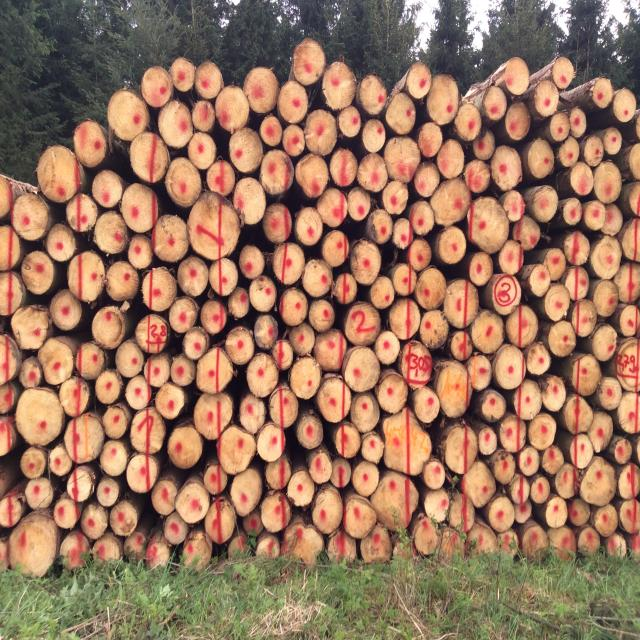wood-log: (188, 193, 242, 260), (383, 406, 432, 474), (7, 512, 58, 577), (370, 469, 418, 532), (38, 147, 88, 206), (15, 388, 65, 446), (467, 196, 510, 251), (108, 88, 150, 140), (64, 412, 107, 462), (434, 358, 470, 416), (129, 131, 169, 182), (431, 178, 473, 226), (67, 252, 106, 303), (194, 393, 235, 441), (217, 426, 256, 475), (122, 184, 160, 234), (152, 215, 190, 265), (580, 456, 617, 507), (12, 193, 52, 240), (321, 62, 359, 110), (158, 101, 196, 149), (442, 423, 477, 475), (196, 347, 236, 392), (12, 304, 52, 349), (342, 346, 381, 392), (441, 279, 478, 327), (130, 406, 167, 454), (41, 337, 78, 385), (427, 76, 462, 126), (166, 158, 202, 206), (216, 85, 252, 133), (400, 339, 436, 387), (318, 377, 354, 425), (75, 120, 110, 169), (243, 67, 280, 113), (460, 461, 496, 508), (233, 176, 268, 224), (296, 154, 333, 199), (304, 109, 340, 155), (386, 136, 422, 182), (203, 495, 236, 545), (260, 149, 294, 197), (344, 302, 381, 346), (292, 40, 327, 86), (312, 486, 344, 536), (94, 210, 131, 253), (167, 427, 204, 470), (230, 468, 263, 516), (21, 252, 57, 296), (143, 267, 178, 312), (230, 127, 264, 173), (506, 304, 542, 347), (491, 146, 524, 192), (565, 352, 601, 394), (387, 297, 422, 340), (312, 328, 347, 371), (343, 495, 377, 539), (93, 304, 127, 348), (414, 267, 448, 310), (248, 352, 281, 396), (267, 383, 299, 428), (349, 239, 381, 284), (496, 344, 528, 389), (175, 482, 210, 523), (272, 242, 306, 284), (288, 356, 322, 398), (107, 262, 141, 303), (141, 67, 174, 109), (50, 290, 83, 332), (377, 371, 410, 413), (471, 312, 504, 354), (590, 238, 622, 281), (560, 396, 595, 435), (126, 453, 161, 492), (136, 315, 170, 355), (488, 274, 522, 314), (291, 524, 325, 564), (615, 337, 640, 390), (60, 374, 90, 418), (262, 492, 294, 533), (263, 202, 294, 244), (278, 81, 309, 123), (410, 515, 440, 558), (176, 257, 208, 297), (384, 92, 415, 133), (357, 152, 388, 193), (62, 528, 92, 570), (46, 223, 78, 262), (92, 169, 124, 208), (68, 194, 100, 233), (318, 188, 349, 228), (524, 140, 555, 180), (184, 529, 213, 571), (239, 394, 268, 436), (303, 260, 335, 298), (168, 296, 200, 334), (224, 327, 256, 365), (593, 160, 621, 203), (350, 394, 380, 434), (358, 76, 388, 116), (0, 272, 27, 316), (528, 185, 560, 222), (278, 288, 309, 326), (436, 141, 466, 180), (420, 309, 450, 348), (499, 414, 528, 454), (156, 382, 187, 419), (359, 526, 390, 563), (0, 334, 22, 386), (78, 340, 108, 378), (208, 258, 238, 296), (514, 382, 543, 421), (259, 423, 288, 462), (502, 56, 531, 95), (438, 226, 467, 265), (505, 101, 533, 141), (99, 440, 130, 476), (206, 160, 236, 197), (288, 471, 318, 508), (413, 160, 443, 197), (115, 340, 144, 378), (331, 150, 360, 188), (542, 282, 571, 320), (296, 206, 324, 245), (588, 410, 614, 452), (546, 321, 576, 357), (520, 522, 547, 562), (110, 501, 139, 538), (248, 276, 277, 313), (82, 501, 110, 539), (188, 132, 216, 170), (196, 62, 224, 100), (296, 412, 324, 450), (321, 230, 349, 268), (454, 102, 482, 140), (528, 412, 556, 450), (334, 420, 362, 458), (592, 324, 620, 362), (532, 79, 559, 118), (328, 528, 357, 564), (513, 213, 541, 250), (486, 494, 514, 531), (367, 209, 395, 246), (146, 531, 174, 568), (572, 299, 599, 337), (351, 460, 380, 495), (591, 279, 619, 315), (408, 200, 436, 236), (412, 388, 440, 424), (562, 230, 590, 266), (615, 263, 640, 303), (94, 531, 124, 564), (617, 392, 640, 435), (490, 446, 516, 484), (25, 475, 54, 509), (563, 266, 592, 300), (95, 370, 123, 405), (102, 404, 130, 439), (382, 181, 410, 216), (201, 299, 229, 334), (464, 160, 492, 195), (549, 524, 577, 559), (610, 382, 638, 417), (239, 246, 266, 282), (152, 478, 178, 515), (289, 322, 317, 356), (126, 376, 154, 410), (202, 460, 229, 495), (496, 241, 523, 276), (183, 326, 210, 361), (0, 225, 20, 272), (128, 233, 154, 269), (267, 454, 293, 490), (68, 467, 94, 503), (570, 161, 595, 198), (370, 274, 397, 308), (567, 434, 594, 468), (417, 123, 443, 158), (595, 376, 621, 411), (407, 65, 433, 100), (483, 86, 508, 122), (170, 57, 195, 93), (468, 356, 493, 392), (479, 391, 507, 423), (526, 342, 552, 376), (146, 354, 172, 388), (424, 490, 450, 524), (280, 123, 306, 157), (170, 356, 197, 388), (542, 375, 566, 411), (374, 332, 400, 365), (592, 504, 617, 538), (50, 442, 75, 476), (126, 527, 150, 562), (308, 449, 332, 484), (309, 300, 335, 332), (22, 446, 48, 478), (408, 238, 434, 270), (332, 272, 358, 304), (501, 188, 527, 220), (361, 120, 386, 153), (255, 316, 280, 349), (19, 356, 44, 389), (621, 218, 640, 261), (614, 88, 638, 122), (468, 253, 492, 287), (348, 188, 372, 222), (528, 266, 555, 296), (450, 331, 476, 362), (555, 464, 578, 499), (164, 512, 188, 545), (554, 56, 578, 89), (558, 135, 582, 168), (578, 524, 602, 556), (591, 78, 615, 110), (584, 200, 608, 232), (617, 304, 640, 337), (228, 531, 256, 558), (54, 500, 79, 530), (0, 415, 18, 456), (339, 106, 362, 138), (193, 100, 216, 132), (261, 114, 284, 146), (360, 432, 383, 464), (229, 287, 251, 320), (422, 460, 446, 490), (620, 464, 640, 500), (0, 380, 20, 416), (393, 265, 416, 296), (545, 250, 568, 281), (518, 444, 540, 476), (542, 443, 564, 475), (392, 218, 414, 250), (549, 112, 571, 143), (273, 339, 295, 370), (620, 500, 640, 534), (585, 134, 606, 166), (98, 477, 121, 506), (473, 131, 496, 160), (612, 437, 635, 466), (547, 498, 569, 528), (567, 499, 590, 527), (333, 456, 353, 488), (561, 198, 583, 227), (241, 509, 264, 536), (510, 474, 530, 505), (260, 532, 282, 558), (606, 531, 627, 558), (530, 476, 550, 504), (0, 272, 12, 318), (0, 175, 13, 217), (480, 427, 498, 456), (0, 494, 16, 526), (626, 181, 640, 216), (628, 142, 640, 181), (571, 109, 586, 139), (606, 128, 623, 154), (516, 501, 534, 522), (629, 532, 640, 564), (0, 470, 12, 498), (0, 536, 9, 570), (634, 436, 640, 464), (634, 115, 640, 140)
